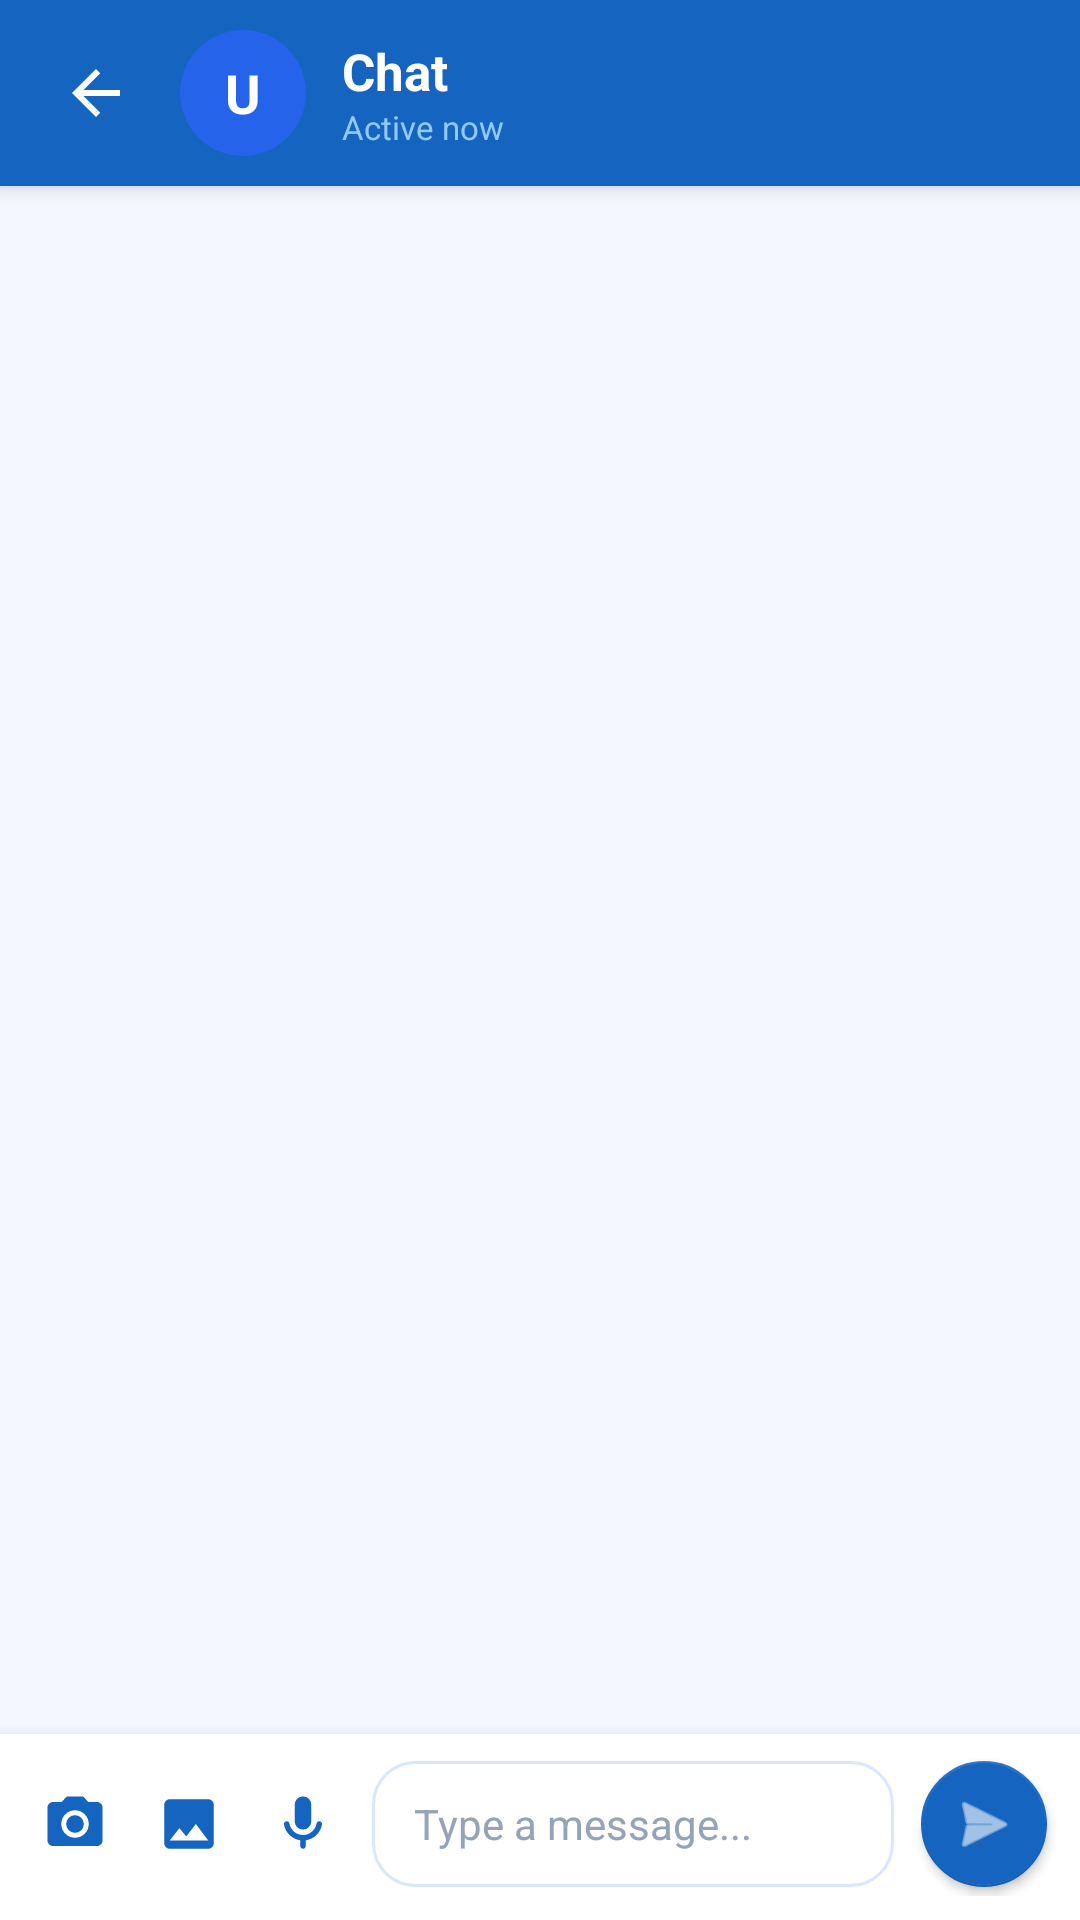

Named icons in this screenshot (1080 × 1920) and their centers, (x=x, y=y):
Back: (x=96, y=93)
Camera: (x=75, y=1821)
Gallery: (x=189, y=1824)
Send: (x=984, y=1827)
Voice Message: (x=303, y=1822)
